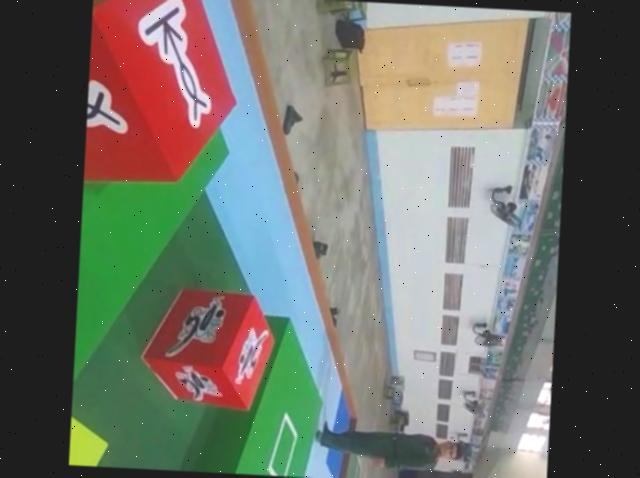R1: (137, 280, 283, 416)
R2 Real: (83, 0, 246, 196)
